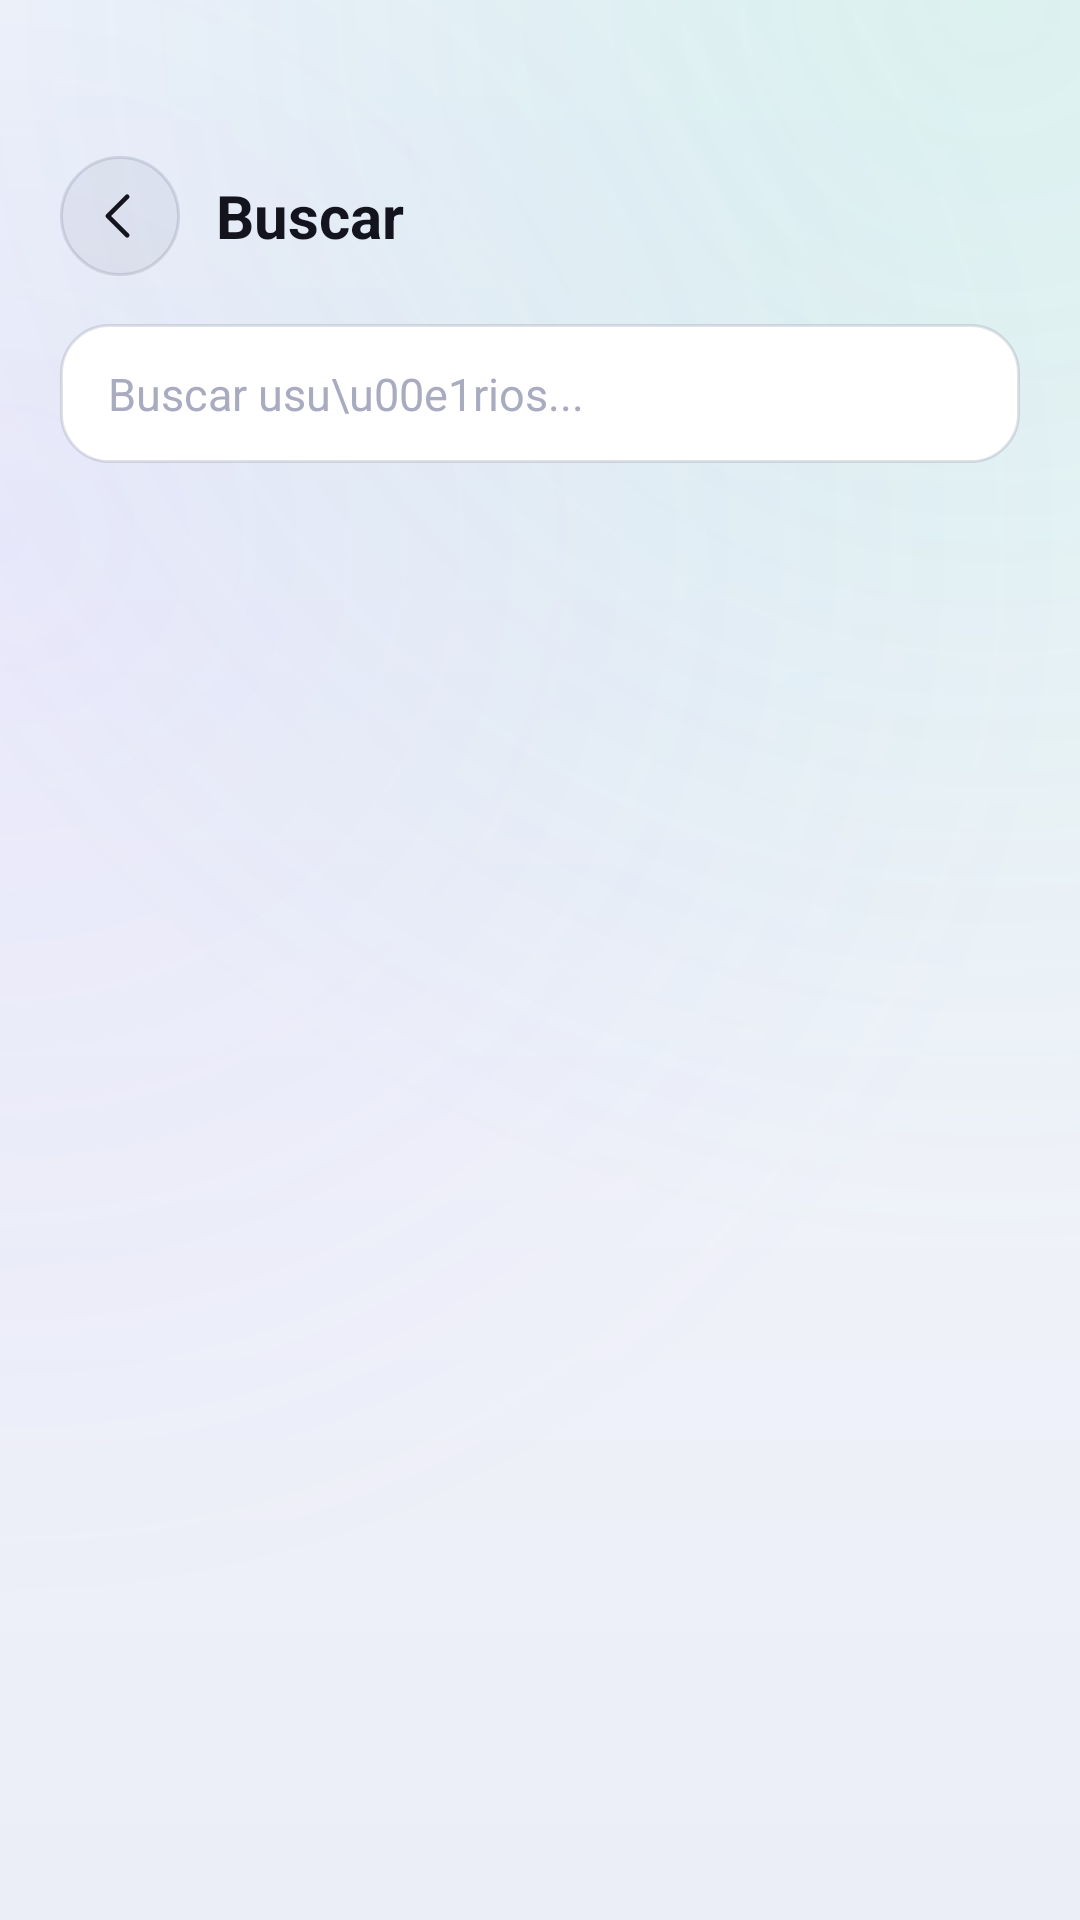

Icon click points for this 1080w x 1920h phone screenshot, format point (x, y):
back: point (120, 216)
